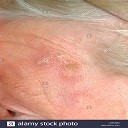Actinic: (39, 55, 83, 80)
